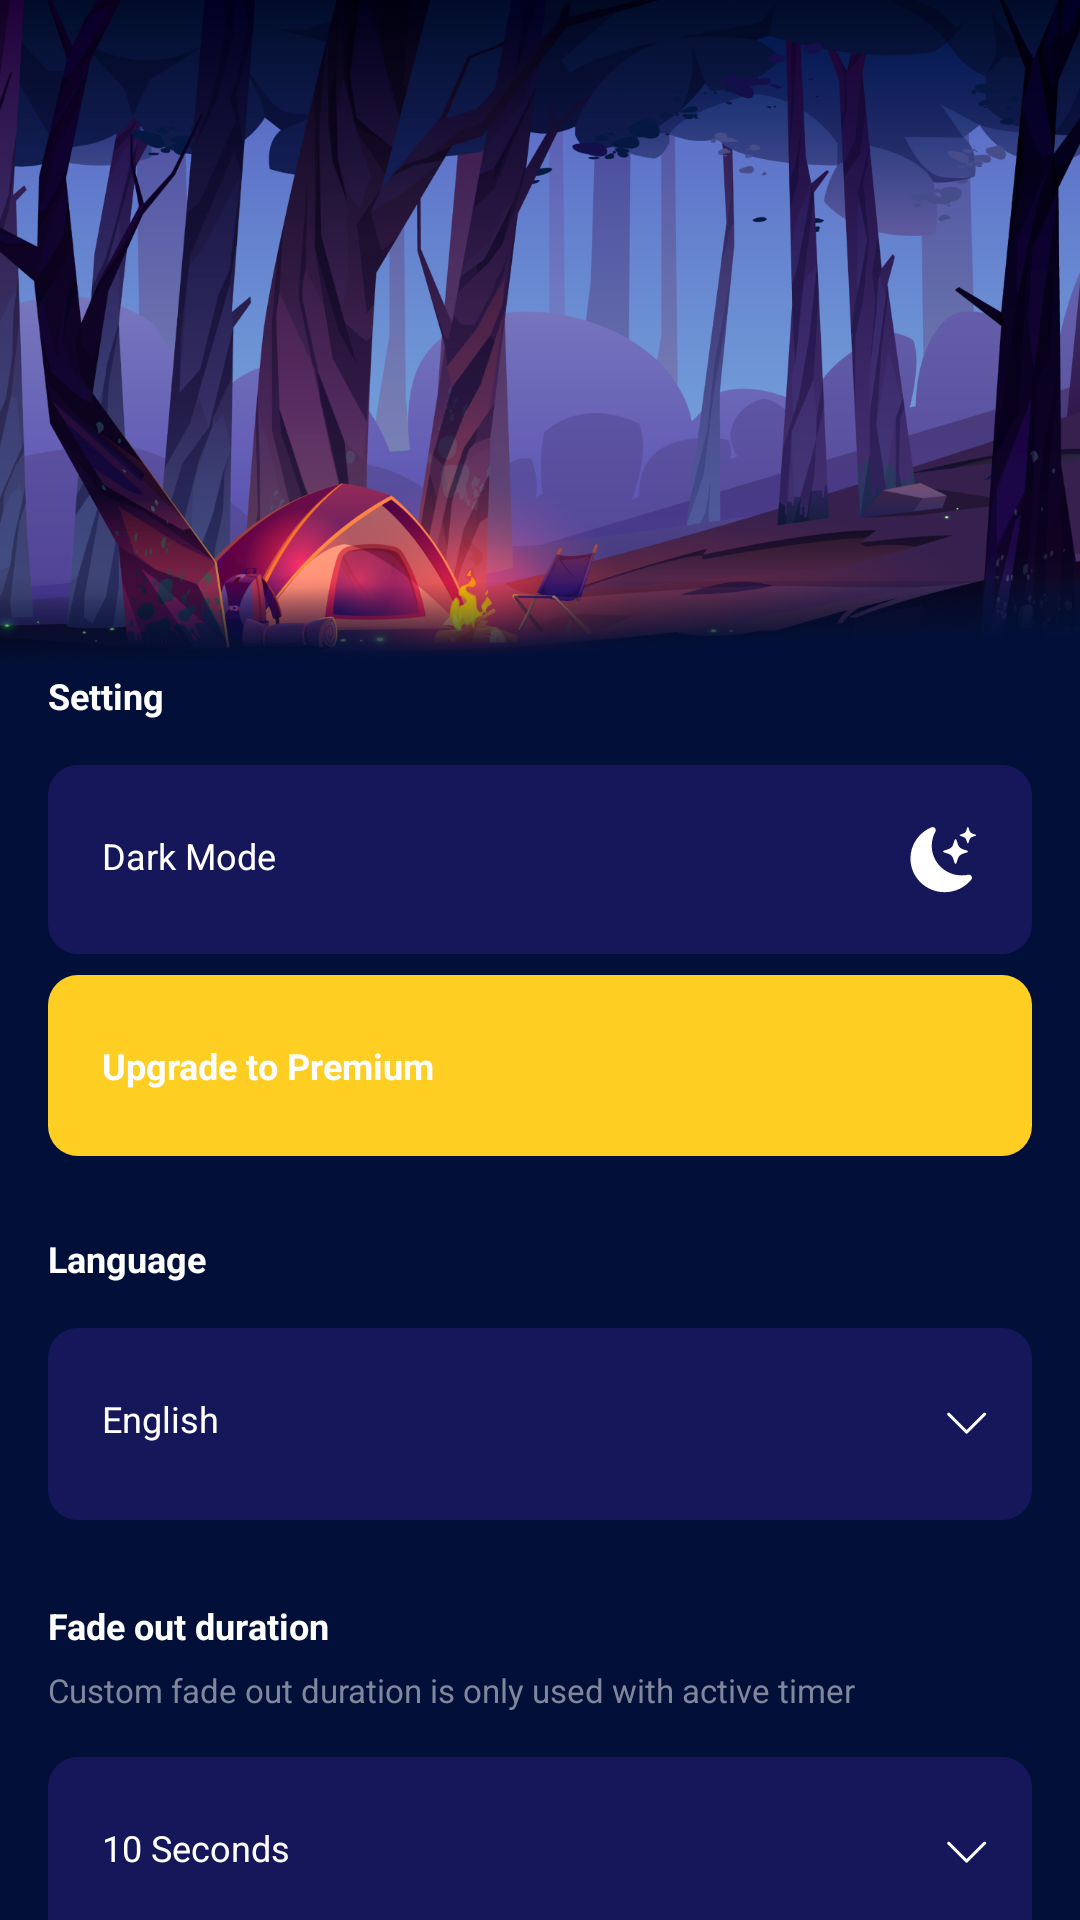

Locate icon controls on the screen. Image size 1080x1920, boxes as (x1, y1, x2, y2).
extend: (947, 1412, 987, 1434), (947, 1841, 987, 1863)
mode: (910, 827, 976, 893)
